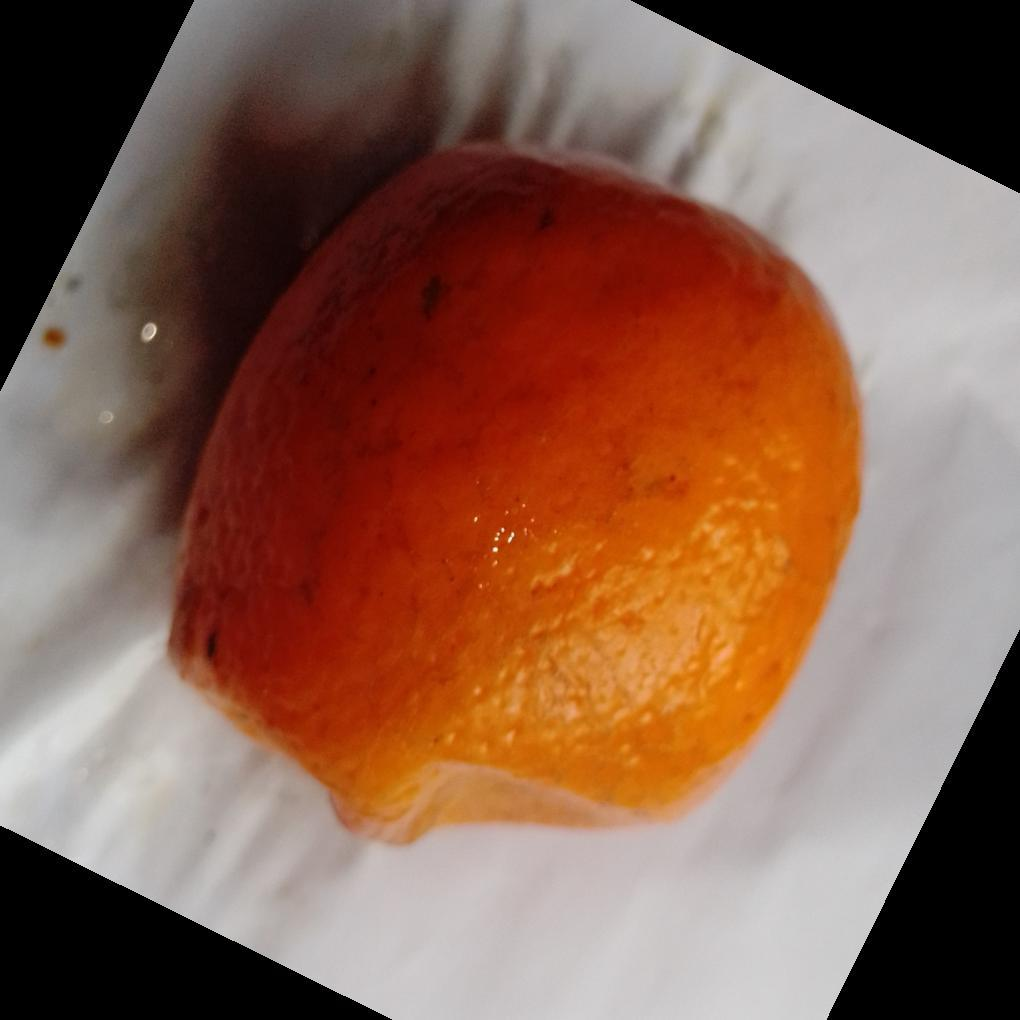FreshOrange: (161, 142, 866, 856)
